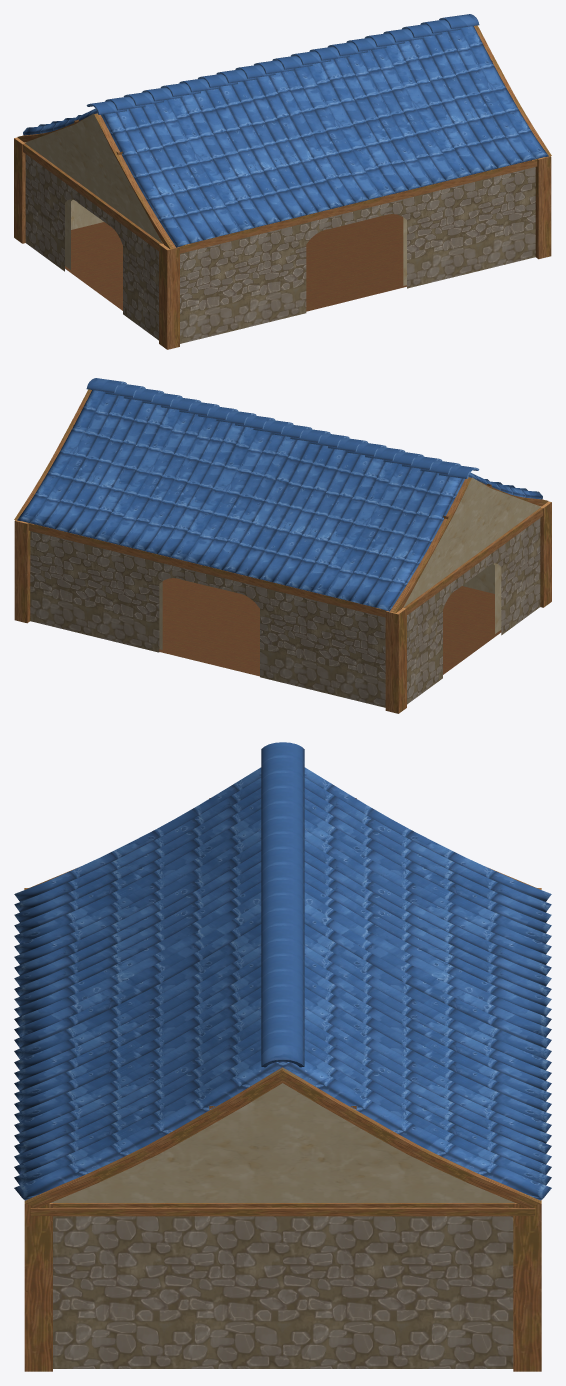
Rendered from Building6Whole.glb.
The picture shows the model from 3 angles, top to bottom: view 1: azimuth 30°, elevation 25°; view 2: azimuth 150°, elevation 25°; view 3: azimuth 270°, elevation 25°; orthographic projection. The views are drawn at different scales.
Visible parts, largest first — view 1: Roof_RoundTiles_6x14.002, Floor_WoodDark.001; view 2: Roof_RoundTiles_6x14.002, Floor_WoodDark.001; view 3: Roof_RoundTiles_6x14.002, Floor_WoodDark.001.
Boxes of the visible parts, x1,y1,x2,y2 form: Roof_RoundTiles_6x14.002: (17,14,551,248); Floor_WoodDark.001: (14,137,551,349); Roof_RoundTiles_6x14.002: (14,378,548,612); Floor_WoodDark.001: (14,501,551,713); Roof_RoundTiles_6x14.002: (14,742,551,1215); Floor_WoodDark.001: (24,888,541,1371).
Size of the model in its own units: 12.65 by 5.92 by 9.08.
7 materials, 7 textured.
